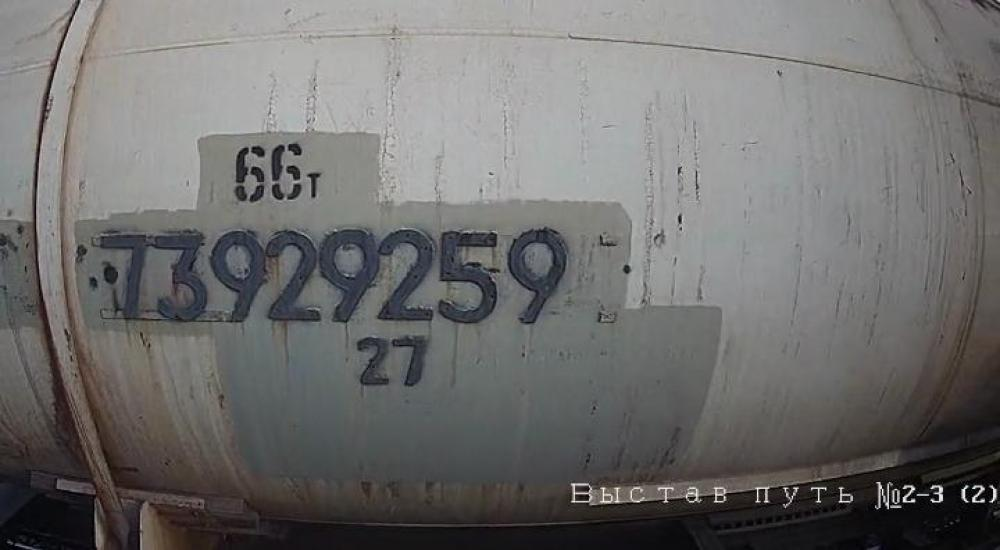Wagon-number: (87, 221, 576, 334)
